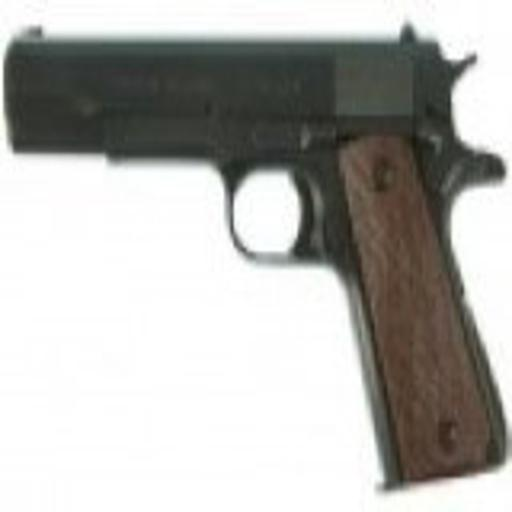Handgun: (2, 24, 507, 493)
